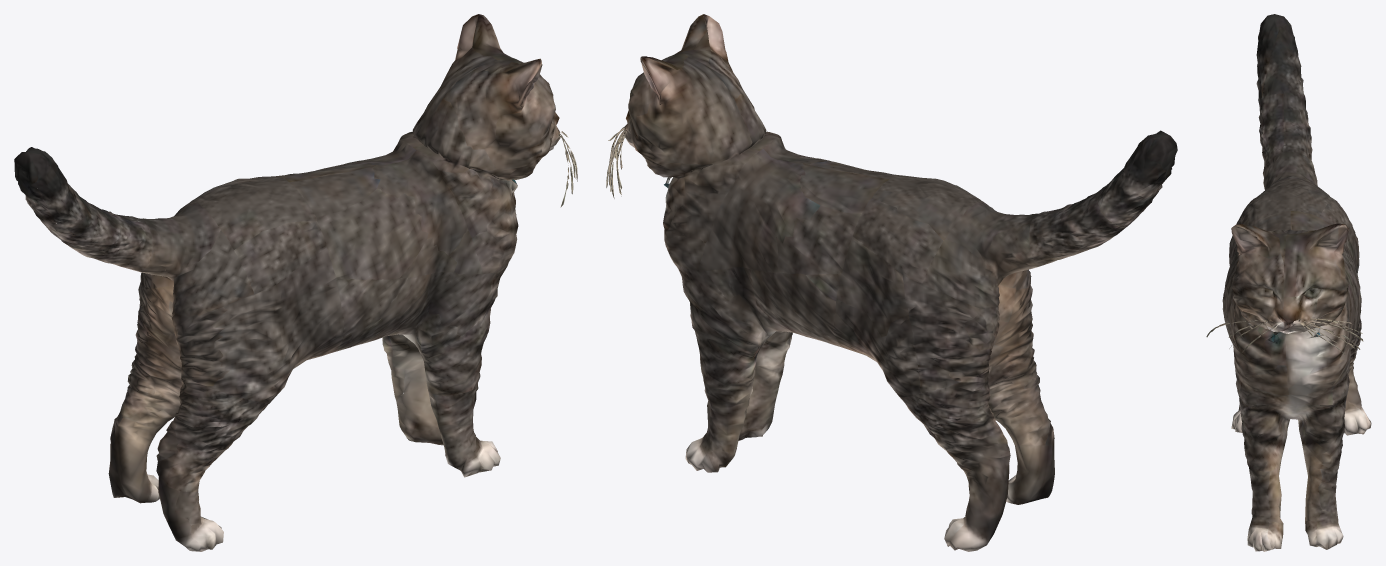
Rendered from THINKTHINK-lo.glb.
The picture shows the model from 3 angles, left to right: view 1: azimuth 30°, elevation 25°; view 2: azimuth 150°, elevation 25°; view 3: azimuth 270°, elevation 25°; orthographic projection. The views are drawn at different scales.
Visible parts, largest first — view 1: tripo_node_3aff749a-fc1e-433d-91e1-e513fbf3a229; view 2: tripo_node_3aff749a-fc1e-433d-91e1-e513fbf3a229; view 3: tripo_node_3aff749a-fc1e-433d-91e1-e513fbf3a229.
Part boxes in pixels (box(x1,y1,x2,y2)): tripo_node_3aff749a-fc1e-433d-91e1-e513fbf3a229: box(14, 14, 577, 551); tripo_node_3aff749a-fc1e-433d-91e1-e513fbf3a229: box(606, 14, 1177, 551); tripo_node_3aff749a-fc1e-433d-91e1-e513fbf3a229: box(1206, 14, 1371, 551).
Bounding box in the file's own units: 1.37 × 0.9964 × 0.4232.
Materials: 1 (1 with a texture image).
